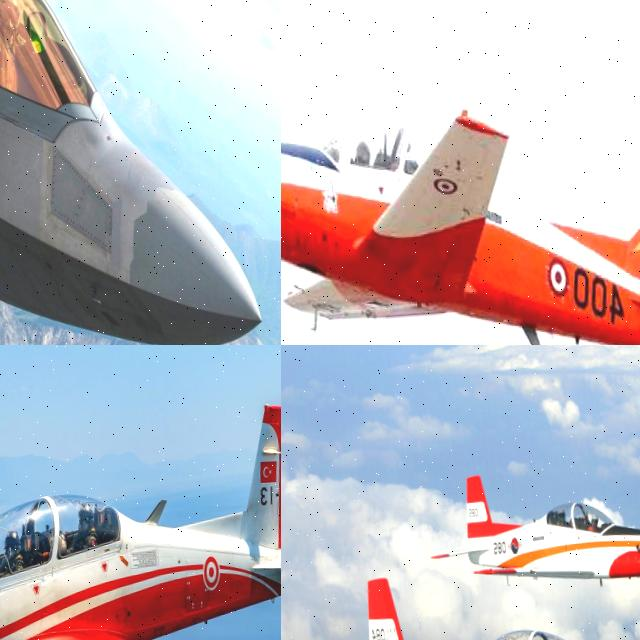F22: (0, 0, 262, 345)
KT-1: (281, 0, 640, 345), (0, 398, 281, 640), (422, 465, 640, 593), (296, 560, 640, 640)
